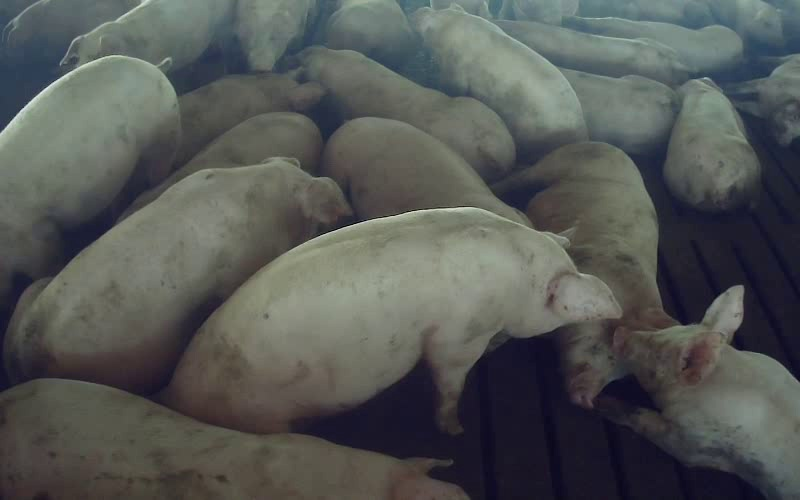pig: (161, 208, 620, 433), (4, 158, 349, 393), (494, 142, 675, 408), (0, 56, 180, 306), (597, 286, 799, 499), (414, 7, 587, 161), (321, 117, 531, 226), (175, 70, 324, 166), (663, 79, 759, 211), (495, 21, 687, 85), (725, 54, 799, 145)
